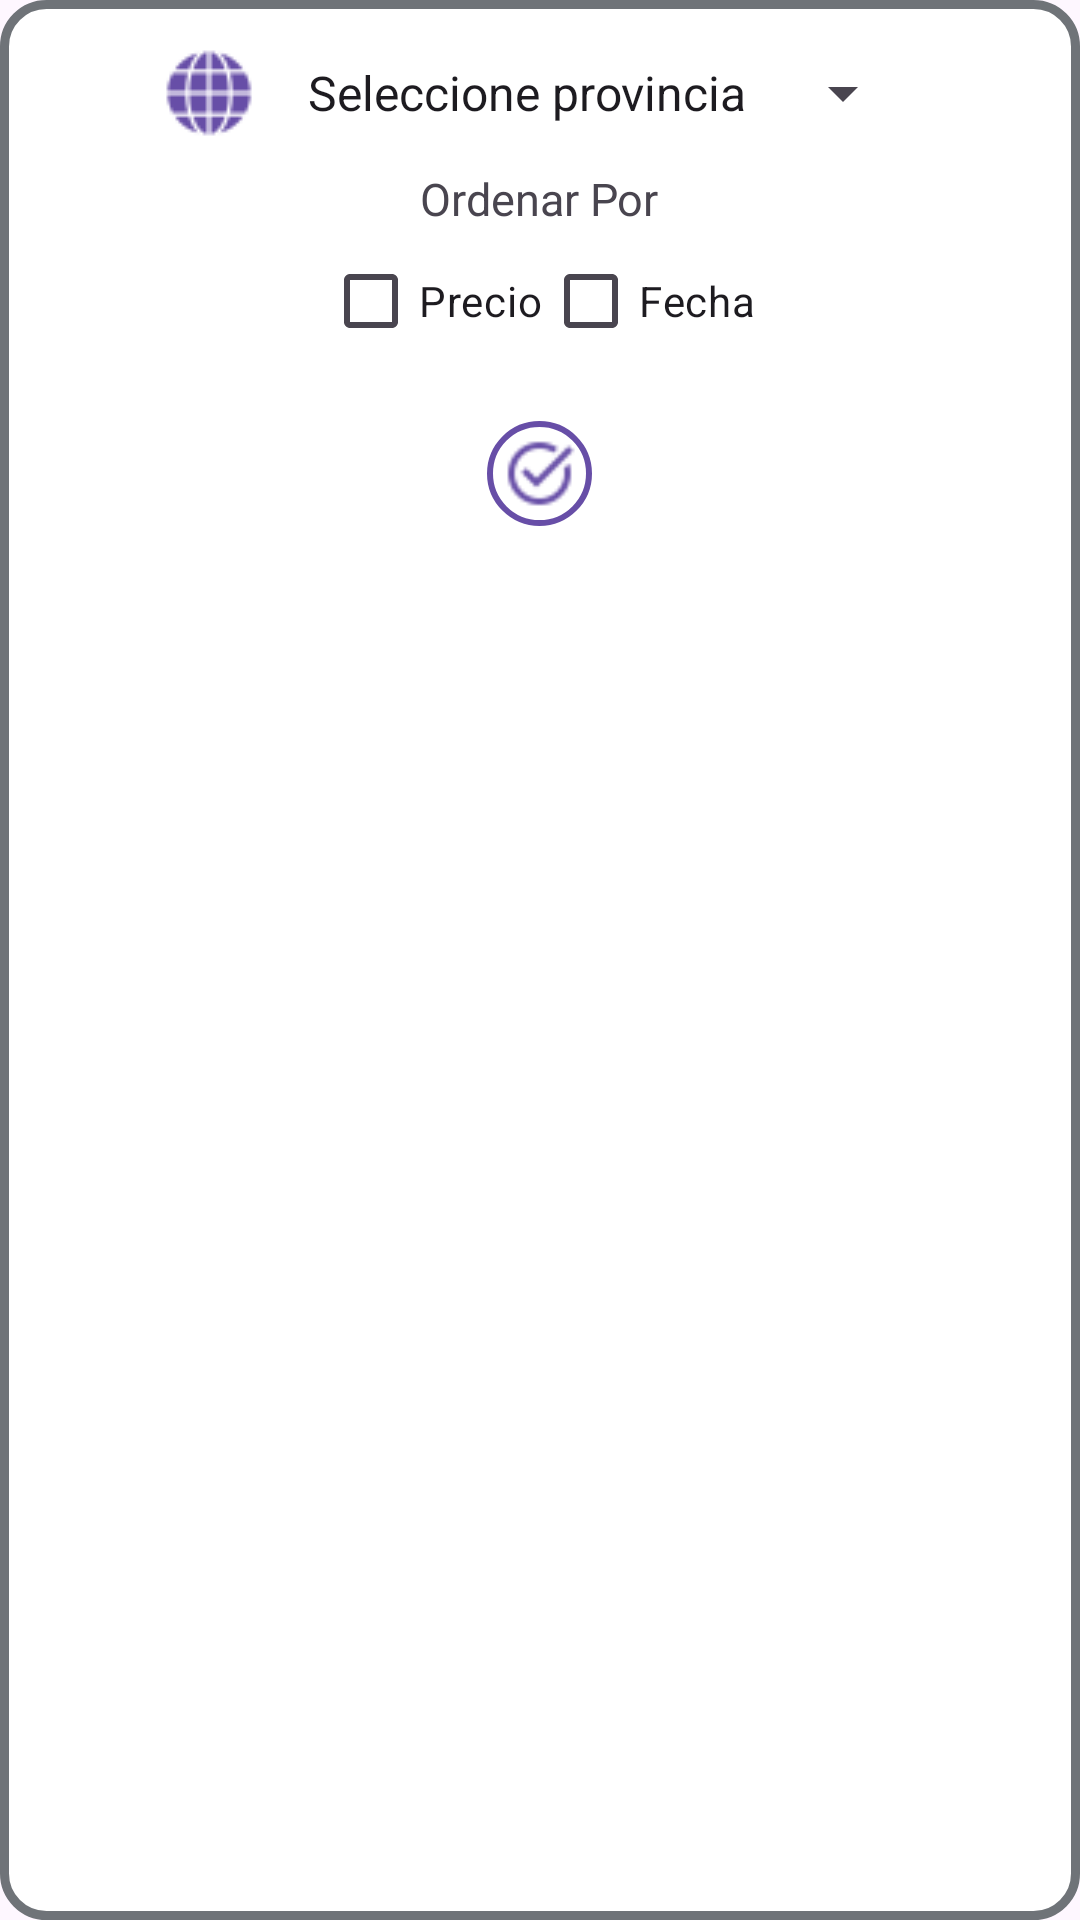

Where icons sit on this 1080px×1920px app screen, as (x1, y1, x2, y2):
check: (507, 441, 574, 506)
worldicon: (166, 51, 252, 135)
